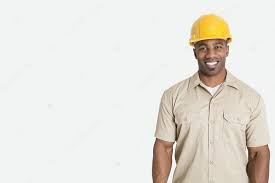Person_wearing_helmet: (183, 7, 236, 54)
